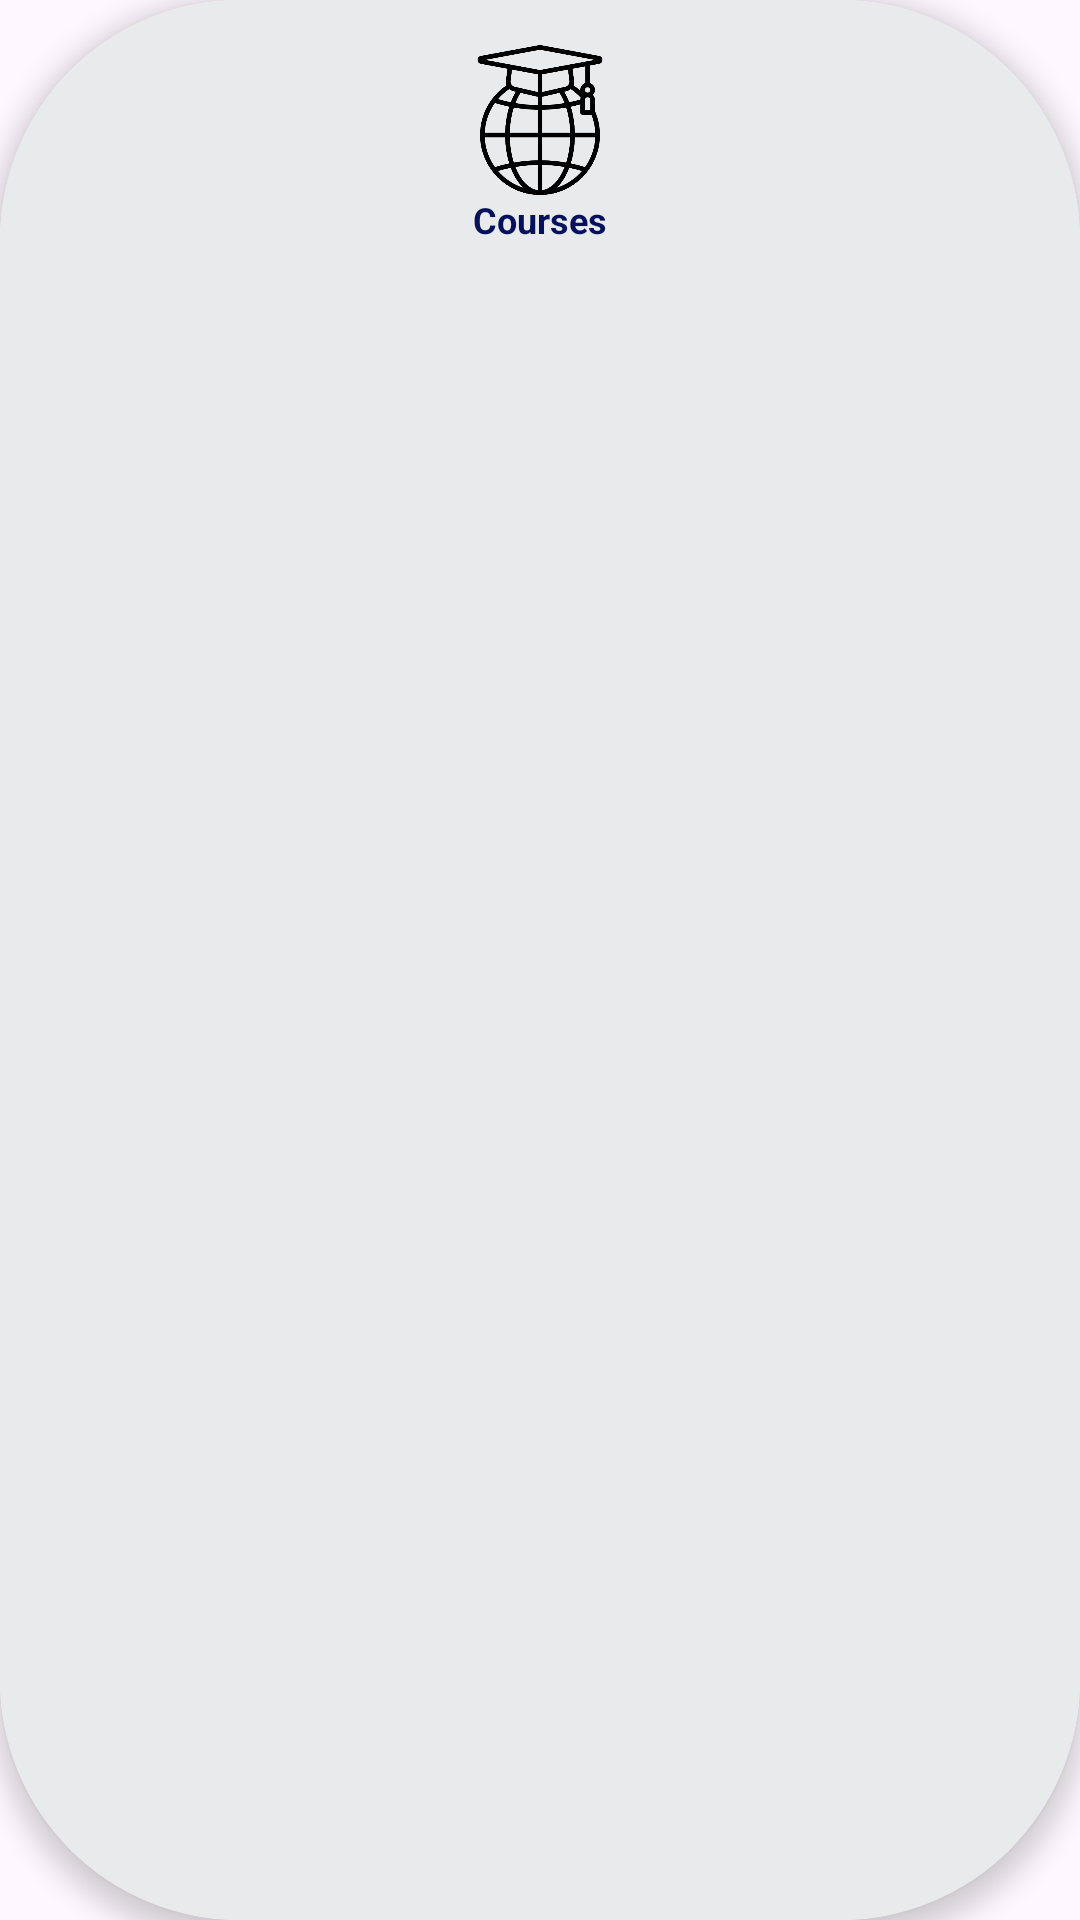

Screen size 1080 x 1920. Icon name, then its box in pixels as rect(x1, y1, x2, y2):
learning: rect(477, 45, 603, 195)
